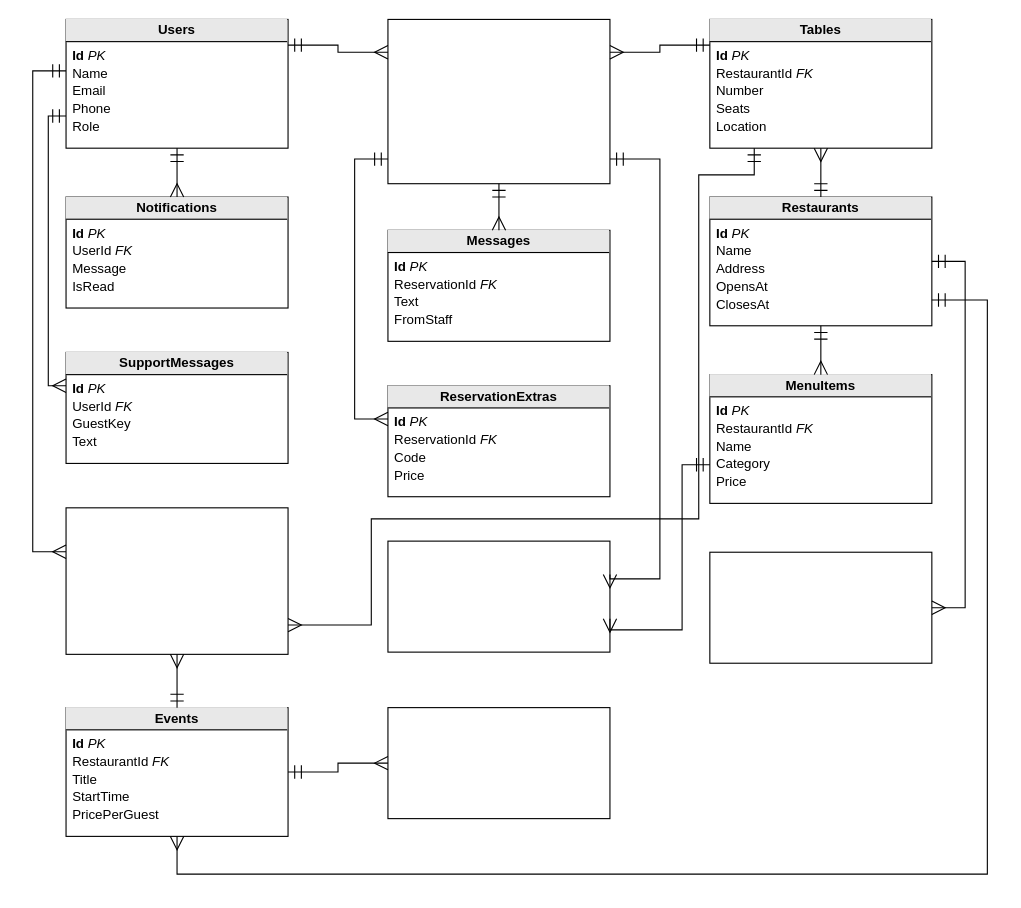
Image size: 1021x908. Some labels were removed from this diagram. The shapes that lost their labels are listed below. From the top down, each one's centre as x and y in pixels, then its label:
At point 498,101: "Reservations Id PK UserId FK TableId FK StartTime Guests Status IsPaid".
At point 176,580: "EventRegistrations Id PK EventId FK UserId FK TableId FK Guests Status".
At point 498,596: "PreOrderItems Id PK ReservationId FK MenuItemId FK Quantity".
At point 820,607: "DayNotes Id PK RestaurantId FK Date Text".
At point 498,763: "EventMenuItems Id PK EventId FK Name Price".
